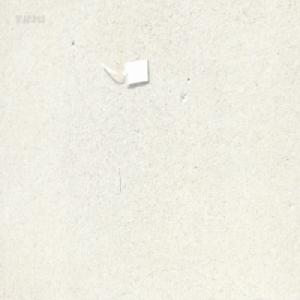LuggageTag: (99, 55, 151, 87)
